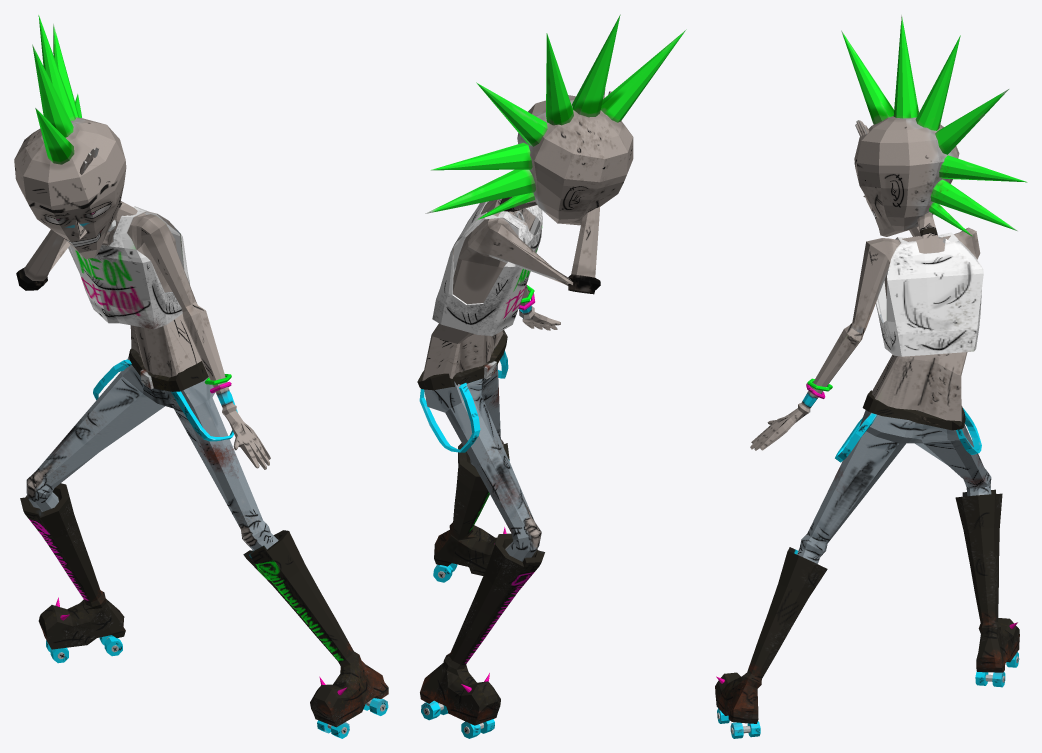
Rendered from punkAnimation_000079.obj.
The picture shows the model from 3 angles, left to right: view 1: azimuth 30°, elevation 25°; view 2: azimuth 150°, elevation 25°; view 3: azimuth 270°, elevation 25°; orthographic projection. The views are drawn at different scales.
Parts seen in each view (by area): view 1: Cube.004_Cube.003; view 2: Cube.004_Cube.003; view 3: Cube.004_Cube.003.
Part boxes in pixels (left/top/right/bottom): Cube.004_Cube.003: left=14, top=15, right=388, bottom=738; Cube.004_Cube.003: left=417, top=14, right=686, bottom=738; Cube.004_Cube.003: left=715, top=15, right=1027, bottom=738.
Size of the model in its own units: 3.08 by 6.72 by 3.1.
